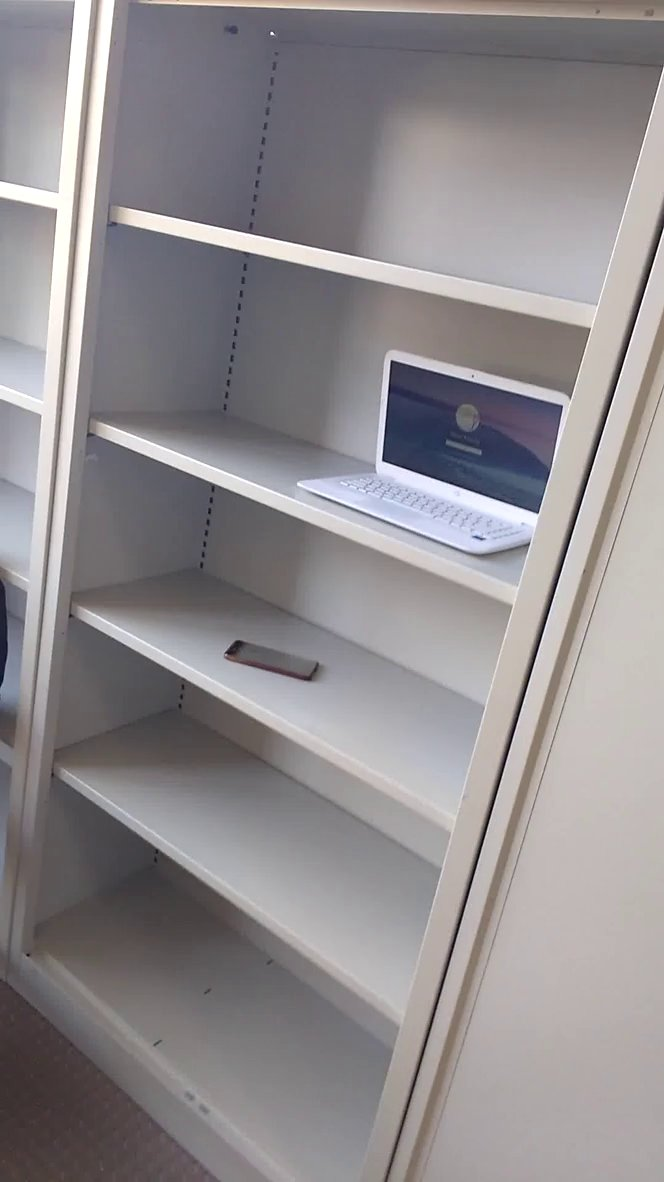laptop: (286, 341, 585, 568)
phone: (218, 631, 329, 686)
